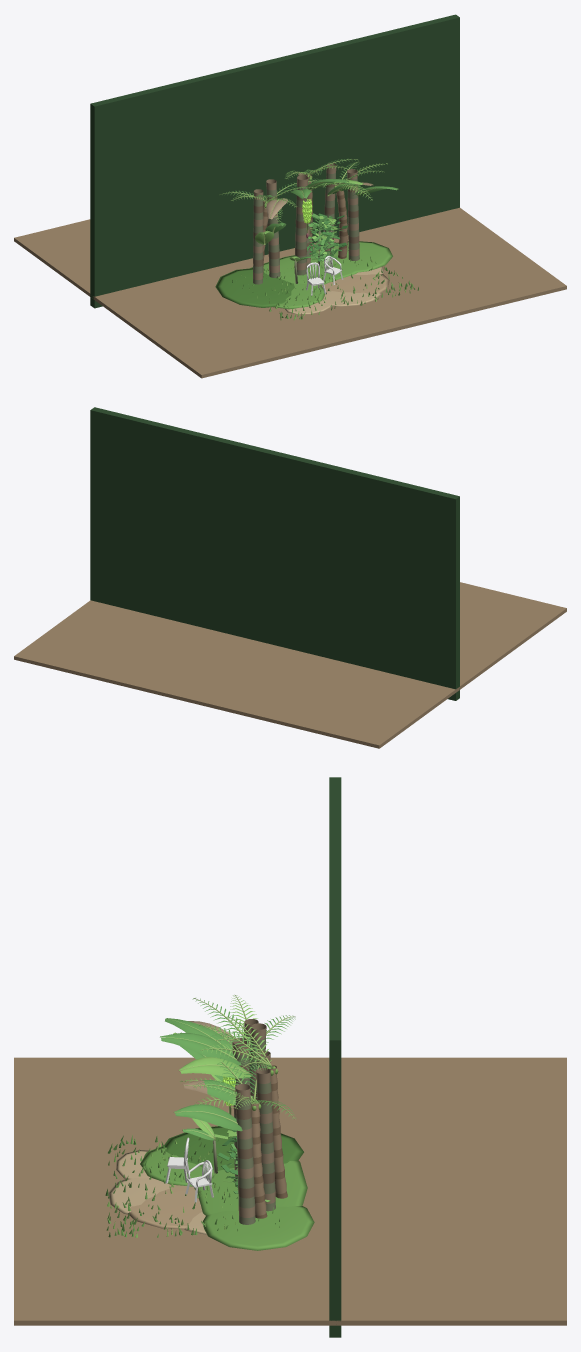
Rendered from dtmf-world.glb.
3 renders of one model, top to bottom at view 1: azimuth 30°, elevation 25°; view 2: azimuth 150°, elevation 25°; view 3: azimuth 270°, elevation 25°, orthographic. The views are drawn at different scales.
Visible parts, largest first — view 1: DtmfPatioGround, DtmfBananaGrove, DtmfPlasticChairs; view 2: DtmfPatioGround; view 3: DtmfPatioGround, DtmfBananaGrove, DtmfPlasticChairs.
Boxes of the visible parts, box(x1,y1,x2,y2) form: DtmfPatioGround: box(14, 14, 566, 378); DtmfBananaGrove: box(219, 158, 398, 284); DtmfPlasticChairs: box(306, 255, 343, 295); DtmfPatioGround: box(14, 407, 566, 748); DtmfPatioGround: box(14, 777, 566, 1337); DtmfBananaGrove: box(160, 995, 296, 1224); DtmfPlasticChairs: box(165, 1137, 213, 1202).
Size of the model in its own units: 18 by 9.5 by 16.
